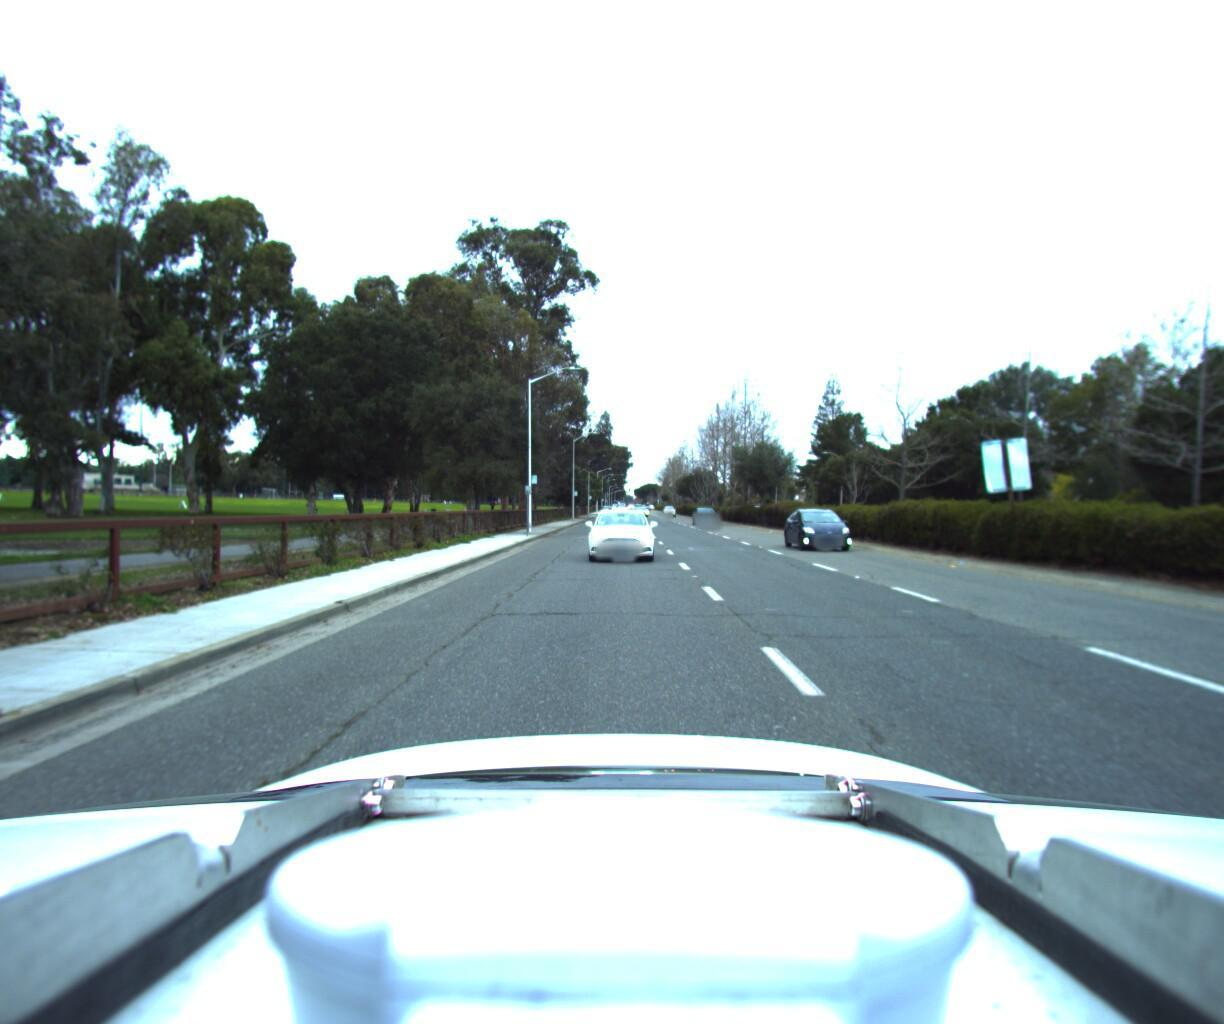car: (587, 500, 651, 559), (790, 501, 864, 550), (693, 498, 719, 517)
